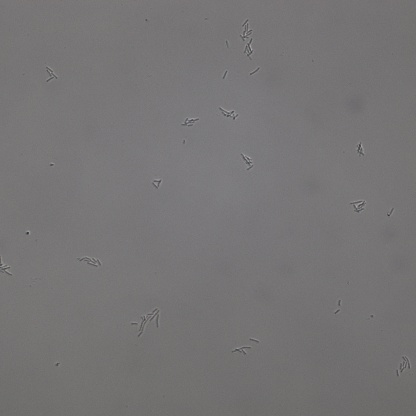R(colony): (131, 307, 160, 339), (396, 356, 411, 377), (44, 65, 60, 83), (239, 18, 252, 40), (77, 256, 101, 267), (220, 107, 238, 121), (180, 116, 198, 129), (232, 345, 251, 357), (241, 153, 254, 170), (351, 200, 366, 213), (243, 42, 253, 60), (1, 263, 13, 277), (356, 142, 365, 156), (152, 178, 162, 189)
